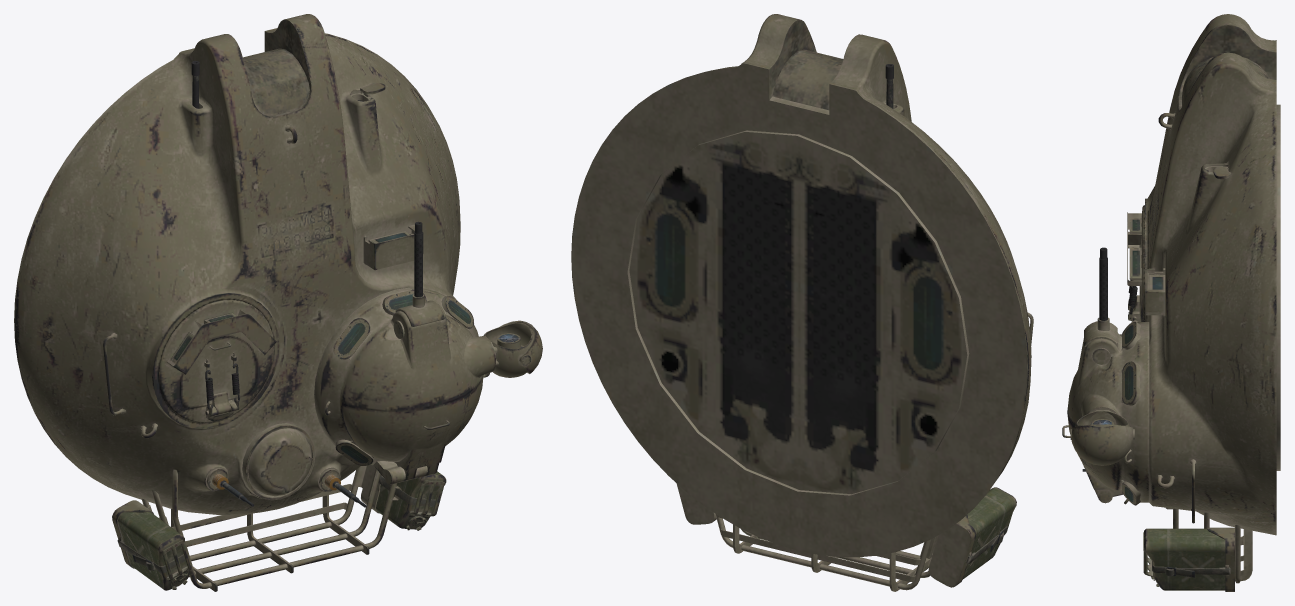
The model's file is Turret_01.glb.
3 renders of one model, left to right at view 1: azimuth 30°, elevation 25°; view 2: azimuth 150°, elevation 25°; view 3: azimuth 270°, elevation 25°, orthographic. The views are drawn at different scales.
Visible parts, largest first — view 1: set_0_group_0; view 2: set_0_group_0; view 3: set_0_group_0.
Part boxes in pixels (<box>): set_0_group_0: <box>14,14,542,591</box>; set_0_group_0: <box>571,14,1033,591</box>; set_0_group_0: <box>1062,14,1280,591</box>.
Size of the model in its own units: 2.8 by 3.15 by 1.23.
Materials: 1 (1 with a texture image).
